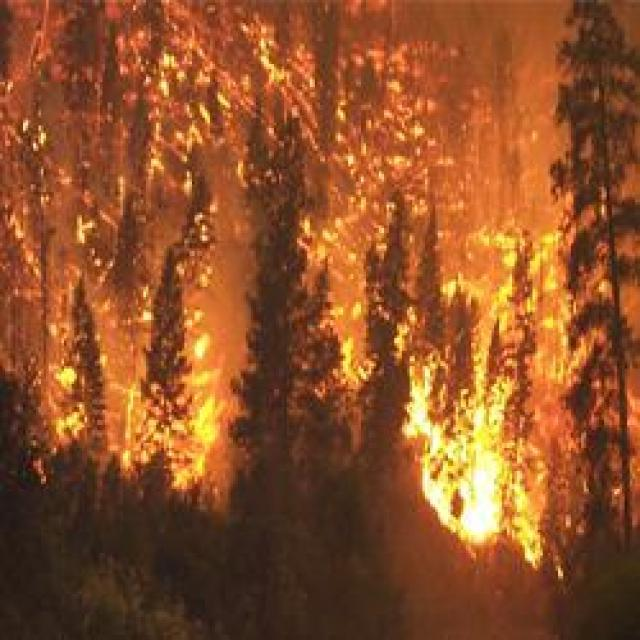Fire: (435, 398, 521, 532), (183, 362, 242, 480)
